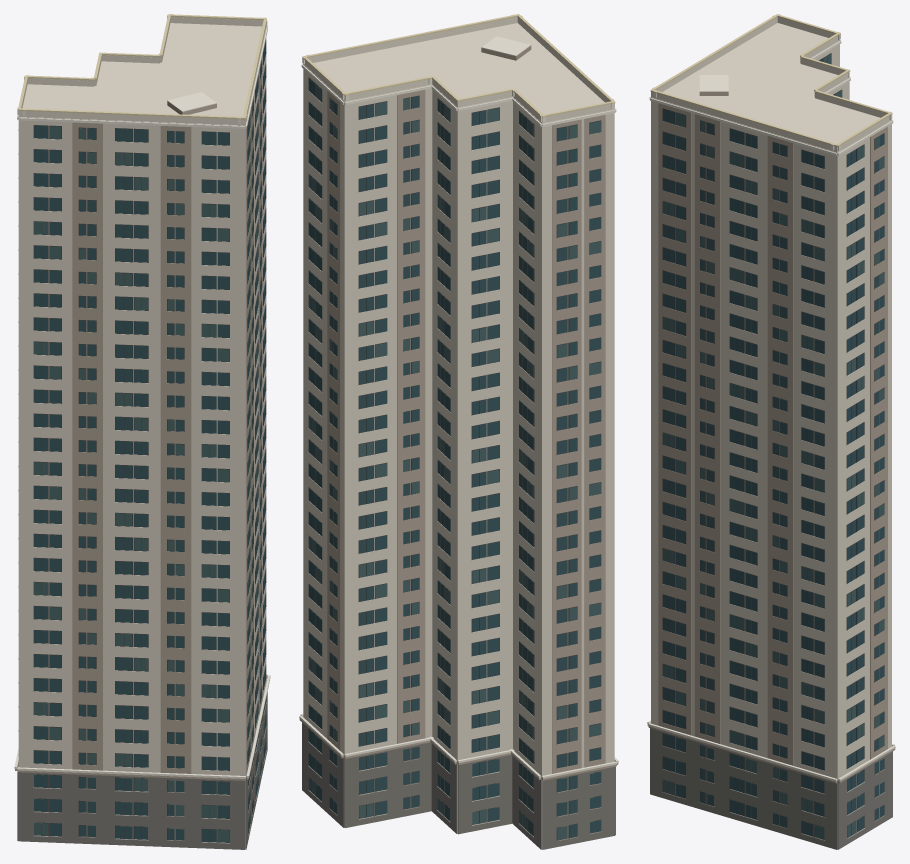
The model's file is bespoke-raemian-prestige-107.glb.
3 renders of one model, left to right at view 1: azimuth 30°, elevation 25°; view 2: azimuth 150°, elevation 25°; view 3: azimuth 270°, elevation 25°, orthographic. The views are drawn at different scales.
Visible parts, largest first — view 1: Prestige_warm_ivory_rendered_wall012, Prestige_recessed_blue_green_window012, Prestige_wide_taupe_pilasters012, Prestige_dark_bronze_thin_window_frame012, Prestige_dark_brown_grey_stone_base012, Prestige_muted_green_window_pair012, Prestige_pale_limestone_band012, Prestige_cream_gold_crown_coping012; view 2: Prestige_warm_ivory_rendered_wall012, Prestige_wide_taupe_pilasters012, Prestige_recessed_blue_green_window012, Prestige_dark_bronze_thin_window_frame012, Prestige_dark_brown_grey_stone_base012, Prestige_muted_green_window_pair012, Prestige_pale_limestone_band012, Prestige_cream_gold_crown_coping012; view 3: Prestige_warm_ivory_rendered_wall012, Prestige_wide_taupe_pilasters012, Prestige_recessed_blue_green_window012, Prestige_dark_bronze_thin_window_frame012, Prestige_dark_brown_grey_stone_base012, Prestige_muted_green_window_pair012, Prestige_pale_limestone_band012, Prestige_cream_gold_crown_coping012.
Boxes of the visible parts, bbox=[...] form: Prestige_warm_ivory_rendered_wall012: bbox=[18, 17, 266, 848]; Prestige_recessed_blue_green_window012: bbox=[34, 41, 266, 842]; Prestige_wide_taupe_pilasters012: bbox=[15, 57, 269, 841]; Prestige_dark_bronze_thin_window_frame012: bbox=[33, 40, 266, 842]; Prestige_dark_brown_grey_stone_base012: bbox=[17, 677, 267, 849]; Prestige_muted_green_window_pair012: bbox=[34, 104, 266, 842]; Prestige_pale_limestone_band012: bbox=[14, 17, 270, 778]; Prestige_cream_gold_crown_coping012: bbox=[17, 14, 267, 119]; Prestige_warm_ivory_rendered_wall012: bbox=[303, 17, 614, 849]; Prestige_wide_taupe_pilasters012: bbox=[299, 45, 618, 841]; Prestige_recessed_blue_green_window012: bbox=[308, 78, 600, 838]; Prestige_dark_bronze_thin_window_frame012: bbox=[308, 77, 601, 840]; Prestige_dark_brown_grey_stone_base012: bbox=[302, 722, 615, 849]; Prestige_muted_green_window_pair012: bbox=[308, 85, 600, 840]; Prestige_pale_limestone_band012: bbox=[299, 36, 618, 778]; Prestige_cream_gold_crown_coping012: bbox=[302, 14, 615, 117]; Prestige_warm_ivory_rendered_wall012: bbox=[651, 17, 891, 849]; Prestige_wide_taupe_pilasters012: bbox=[647, 92, 895, 828]; Prestige_recessed_blue_green_window012: bbox=[663, 59, 884, 836]; Prestige_dark_bronze_thin_window_frame012: bbox=[662, 53, 884, 839]; Prestige_dark_brown_grey_stone_base012: bbox=[650, 728, 892, 849]; Prestige_muted_green_window_pair012: bbox=[663, 53, 884, 839]; Prestige_pale_limestone_band012: bbox=[647, 34, 895, 781]; Prestige_cream_gold_crown_coping012: bbox=[650, 14, 892, 146].
Size of the model in its own units: 34.71 by 84.9 by 27.11.
